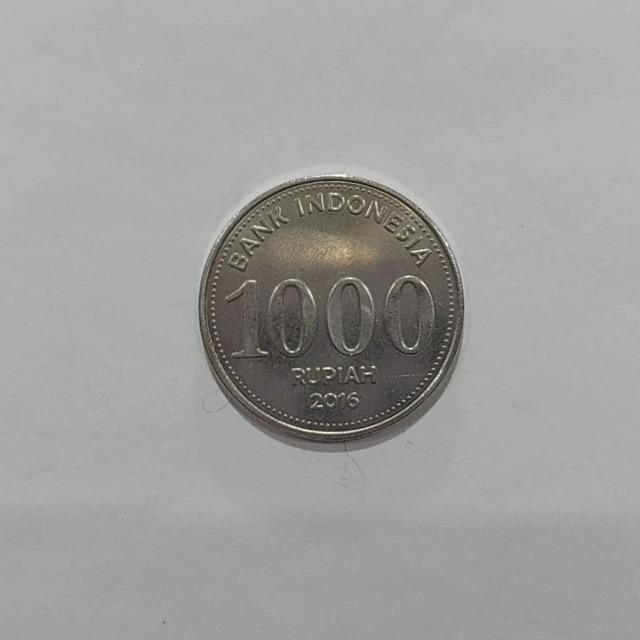Rp100: (196, 172, 466, 451)
